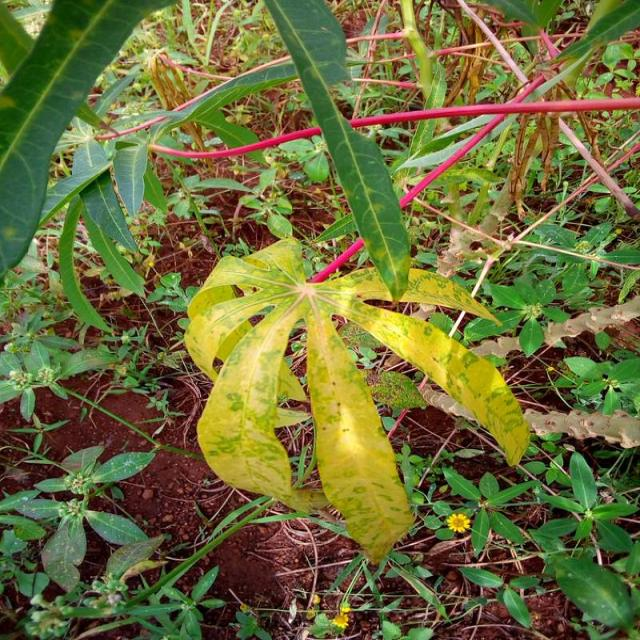cassava leaf: (183, 234, 530, 565), (263, 0, 412, 302)
